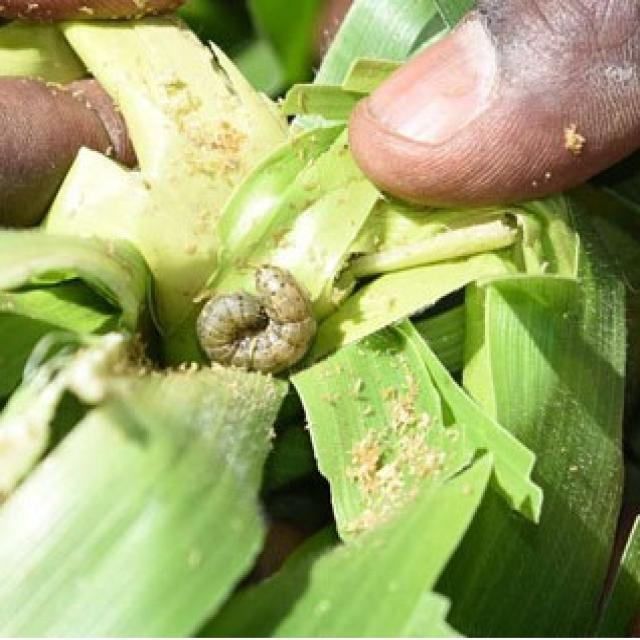worm: (194, 264, 317, 375)
